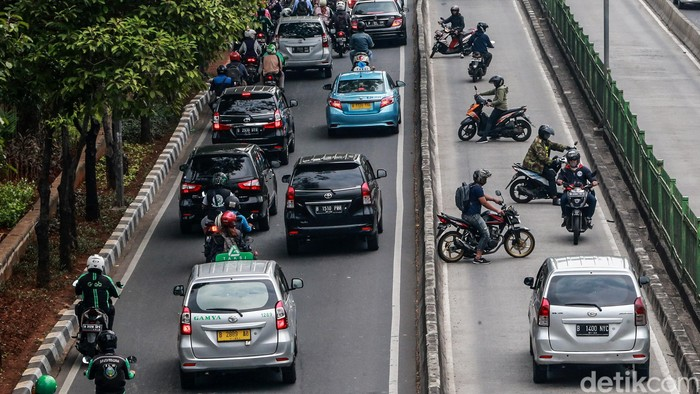car: (175, 256, 300, 385), (528, 257, 653, 384), (286, 155, 384, 255), (177, 144, 280, 235), (212, 87, 296, 169), (329, 71, 405, 138), (272, 17, 331, 80), (349, 3, 409, 55)
motorbike: (438, 171, 536, 267), (458, 78, 531, 145), (514, 127, 576, 202), (76, 256, 119, 359), (559, 156, 594, 248), (84, 331, 135, 394), (214, 197, 255, 267), (436, 5, 483, 60), (207, 174, 236, 257), (468, 25, 494, 80), (209, 65, 233, 118), (262, 43, 287, 90), (241, 31, 261, 83), (334, 3, 353, 56), (348, 25, 372, 65), (251, 5, 272, 49), (225, 52, 245, 93)
